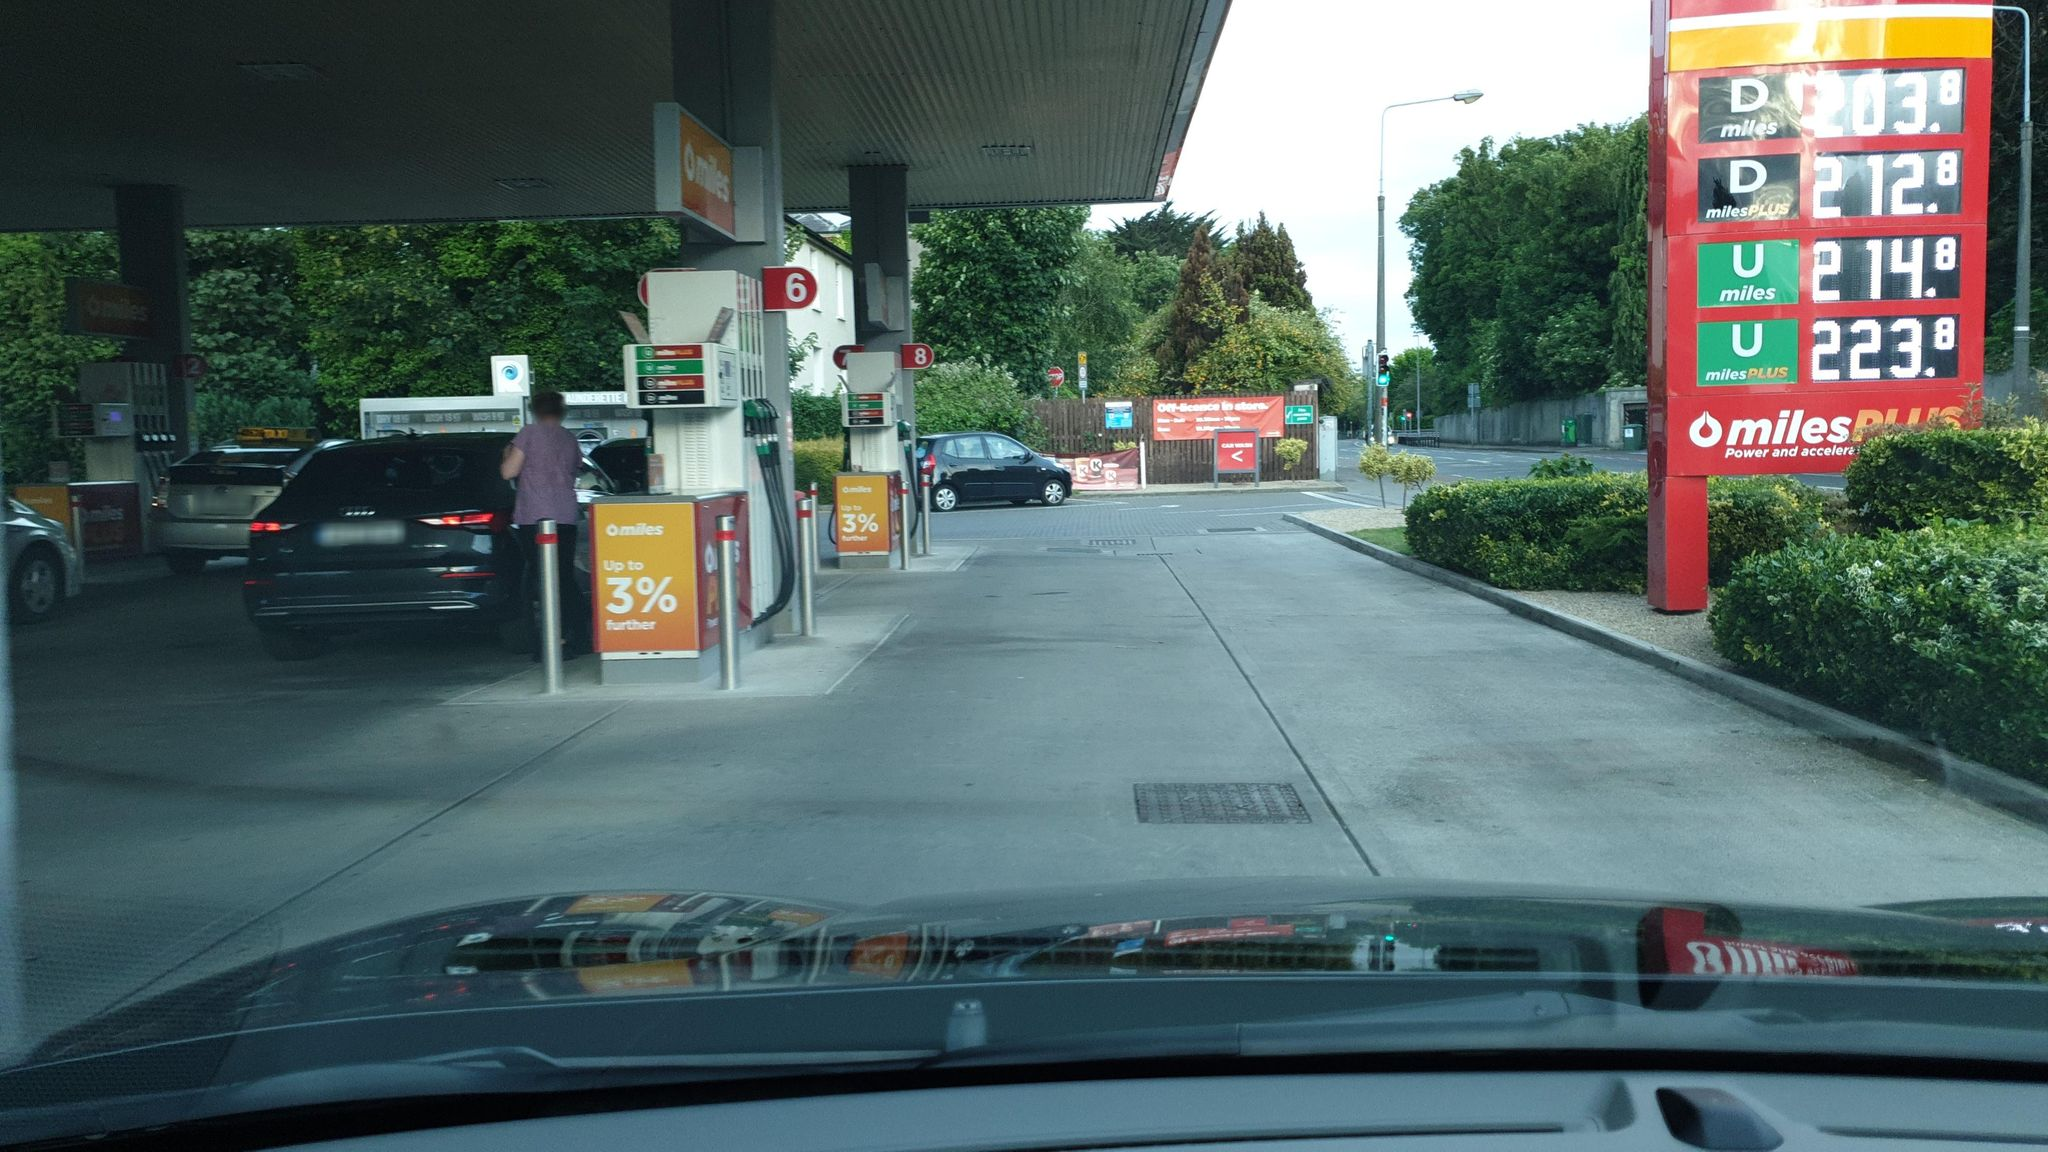vinyl banner: (1155, 388, 1295, 442), (1032, 446, 1155, 499)
